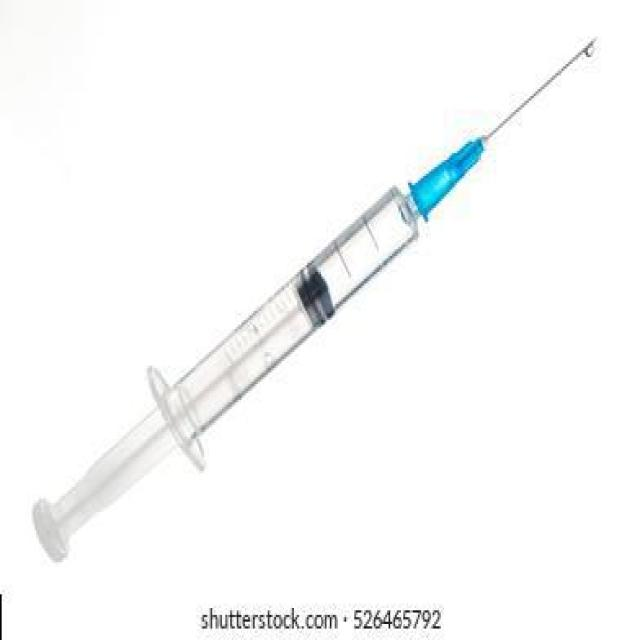B3: (24, 183, 428, 571), (406, 30, 601, 226)
